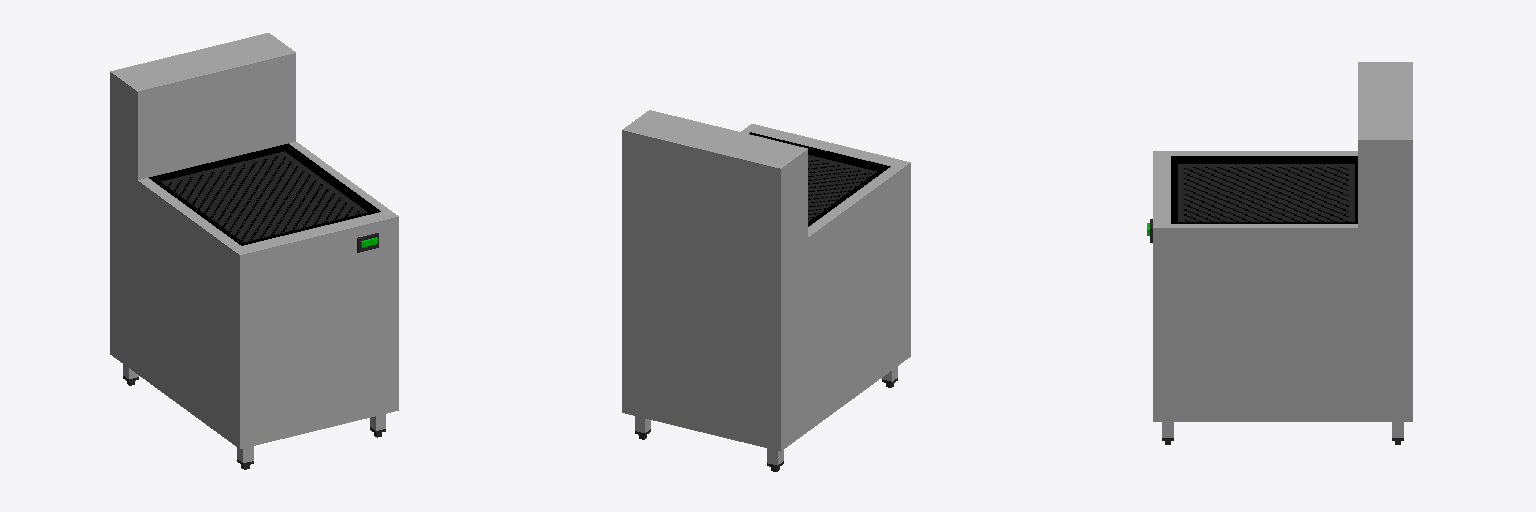
3 renders of one model, left to right at view 1: azimuth 30°, elevation 25°; view 2: azimuth 150°, elevation 25°; view 3: azimuth 270°, elevation 25°, orthographic.
Parts seen in each view (by area): view 1: object 1; view 2: object 1; view 3: object 1.
Part boxes in pixels (x1,y1,x2,y2): object 1: (110,33,398,469); object 1: (622,110,910,471); object 1: (1147,62,1412,444).
Bounding box in the file's own units: 6 × 11.2 × 8.7.
1 materials, 1 textured.